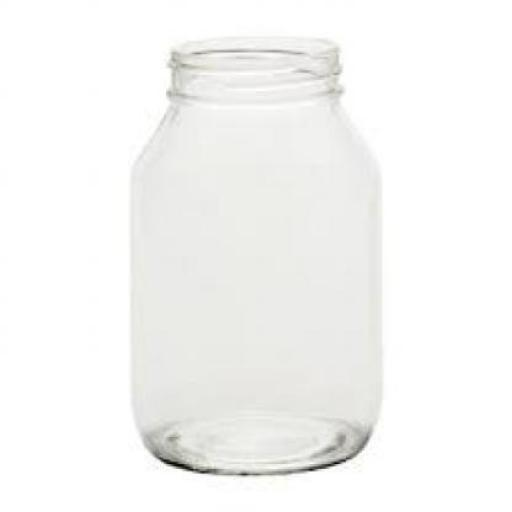glass: (125, 34, 380, 473)
